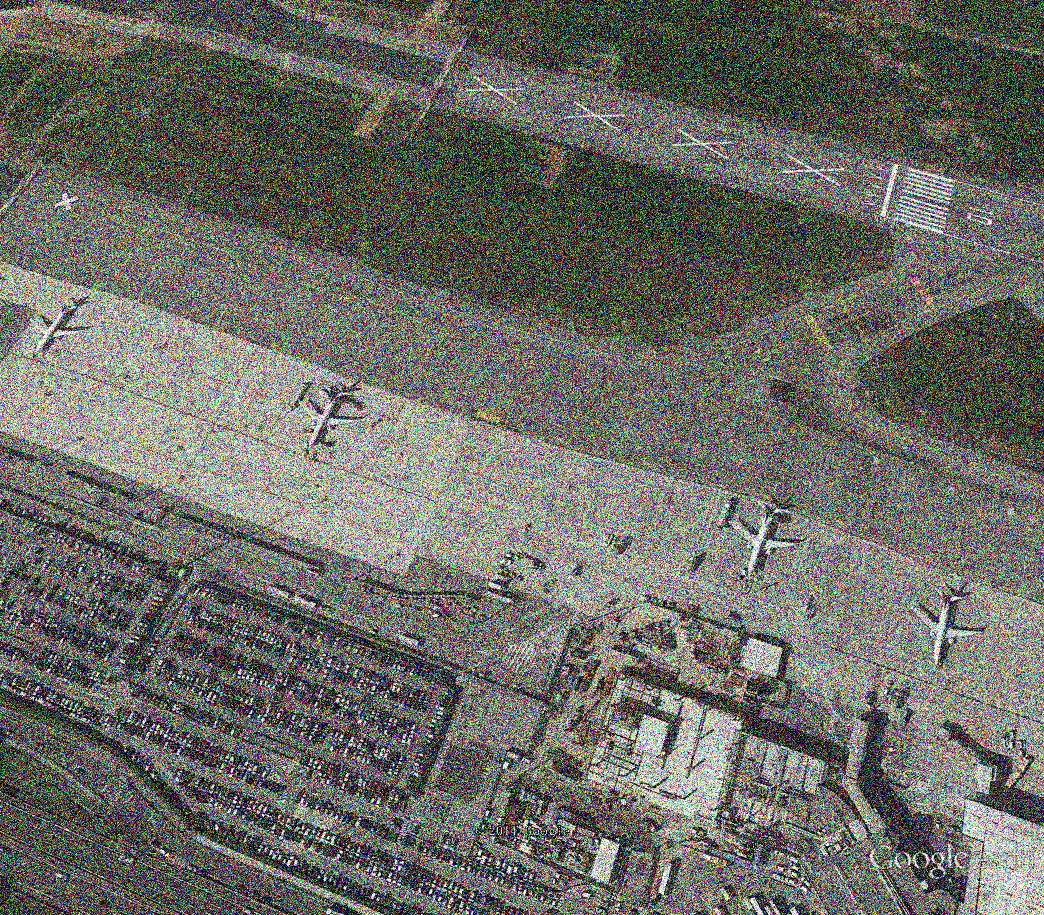aircraft: (729, 496, 808, 582), (906, 588, 985, 670), (295, 385, 363, 451), (25, 301, 90, 360), (48, 190, 84, 216)
